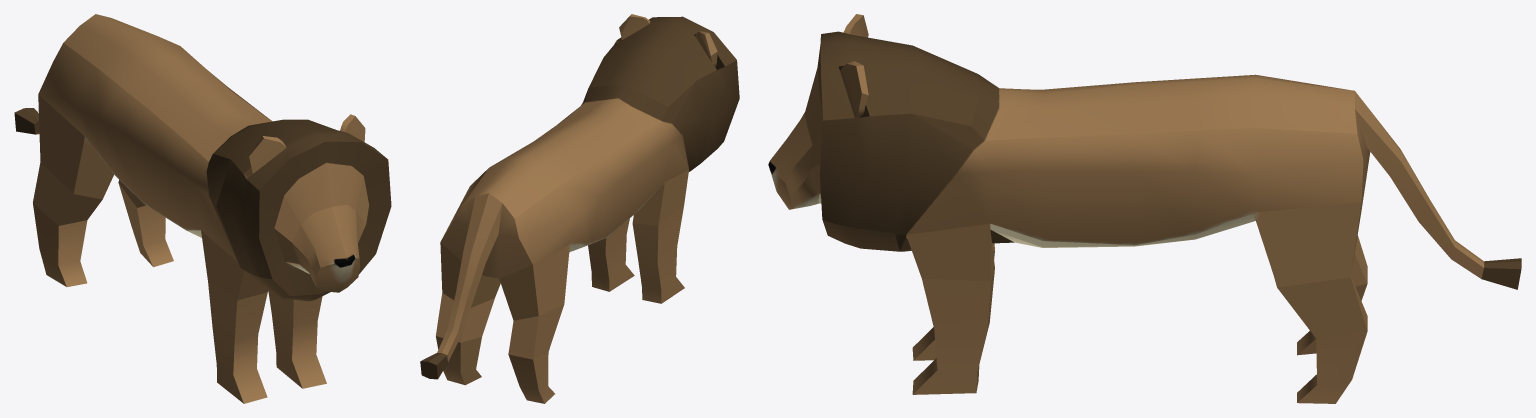
The model's file is lion.fbx.
3 views of the same model, side by side, from view 1: azimuth 30°, elevation 25°; view 2: azimuth 150°, elevation 25°; view 3: azimuth 270°, elevation 25° (orthographic). The views are drawn at different scales.
Visible parts, largest first — view 1: lion; view 2: lion; view 3: lion.
Part boxes in pixels (<box>): lion: <box>14,14,391,403</box>; lion: <box>420,14,739,403</box>; lion: <box>768,14,1521,403</box>.
Bounding box in the file's own units: 74.59 × 142 × 291.
